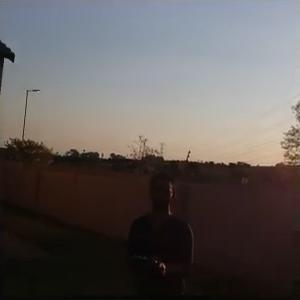follow: (119, 151, 196, 298)
